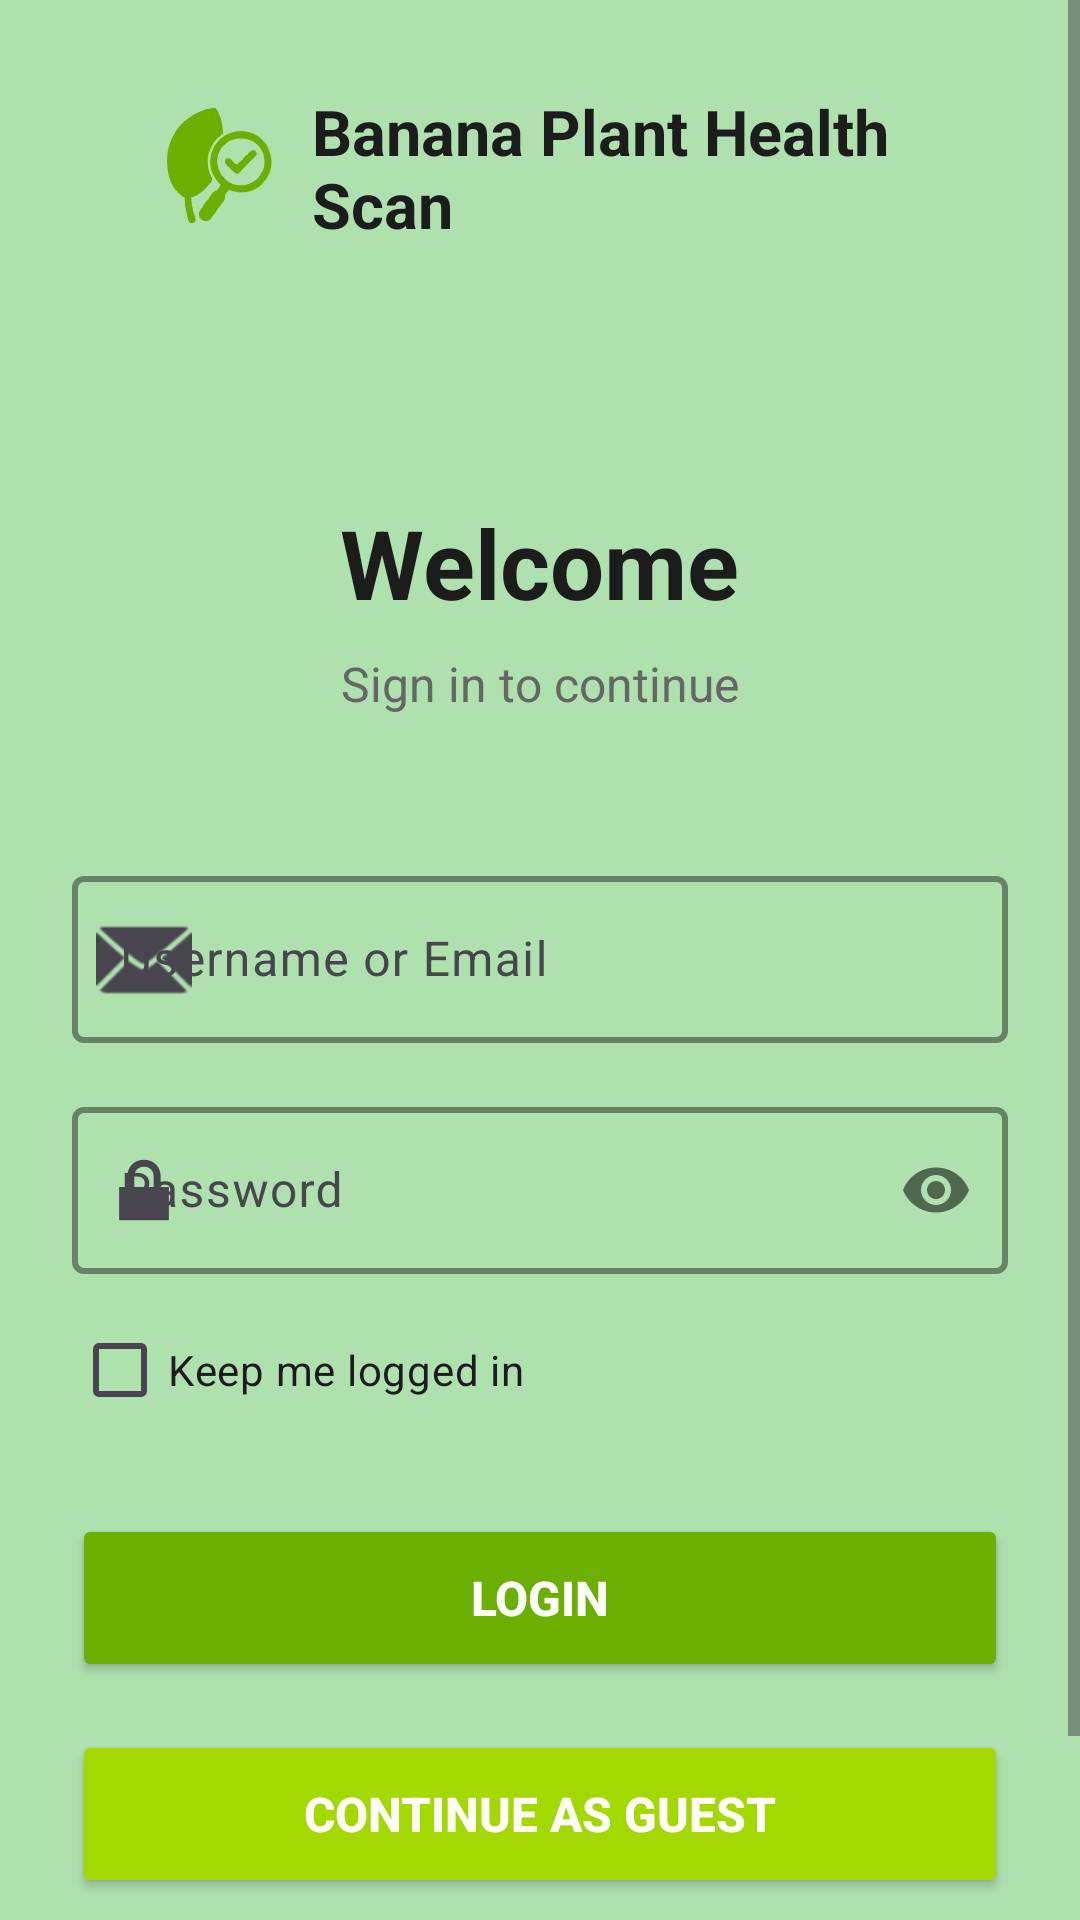

Where to tap for icons on this 1080 x 1920 app screen, as [x,y]:
magnify leaf: [219,165]
